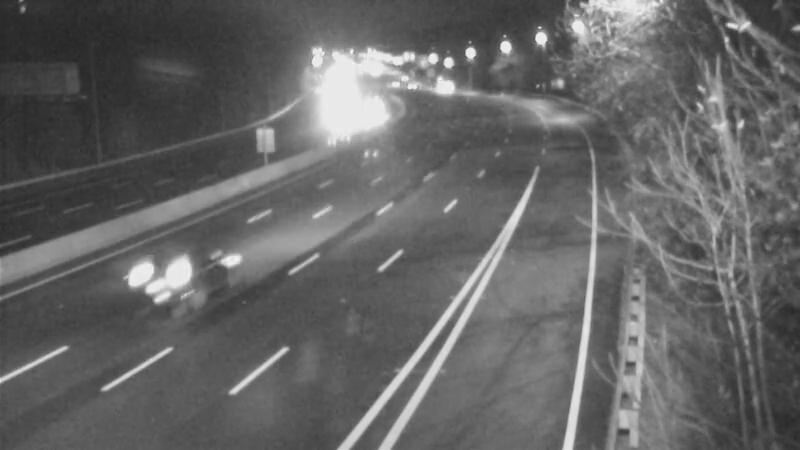vehicle: (123, 247, 203, 327)
